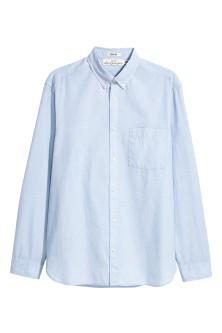teeshirt: (14, 43, 216, 293)
